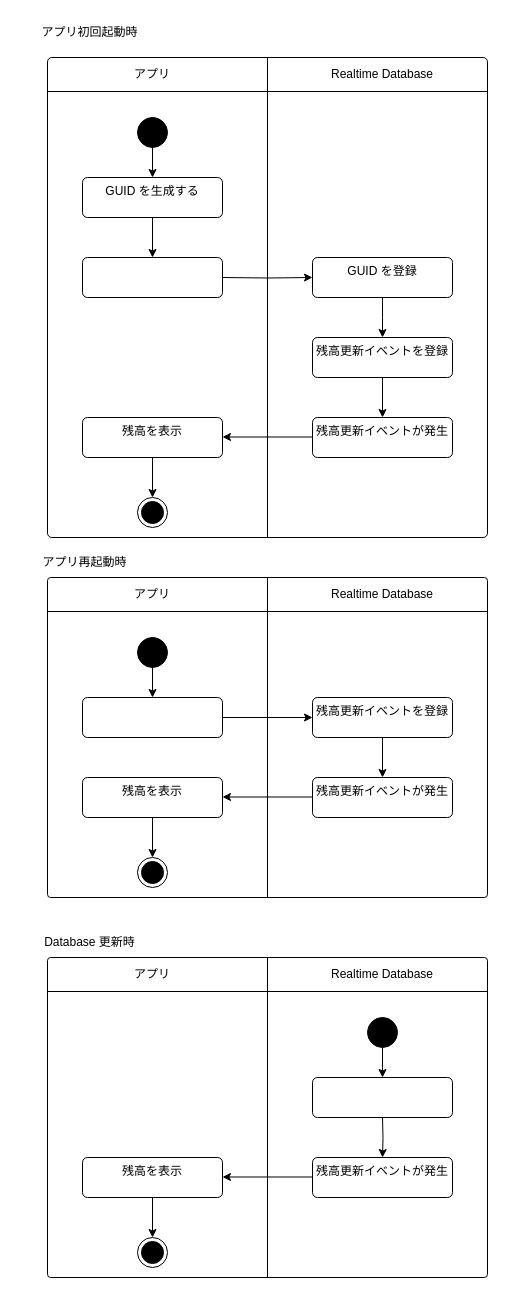
The diagram is 505 pixels wide and 1296 high, and some of its shapes have lost their labels. The centre of each missing label's shape, as x and y in pixels:
GUID をストレージから読み込む: the point at 152,717
GUID をストレージに保存: the point at 152,277
残高を更新: the point at 382,1097
